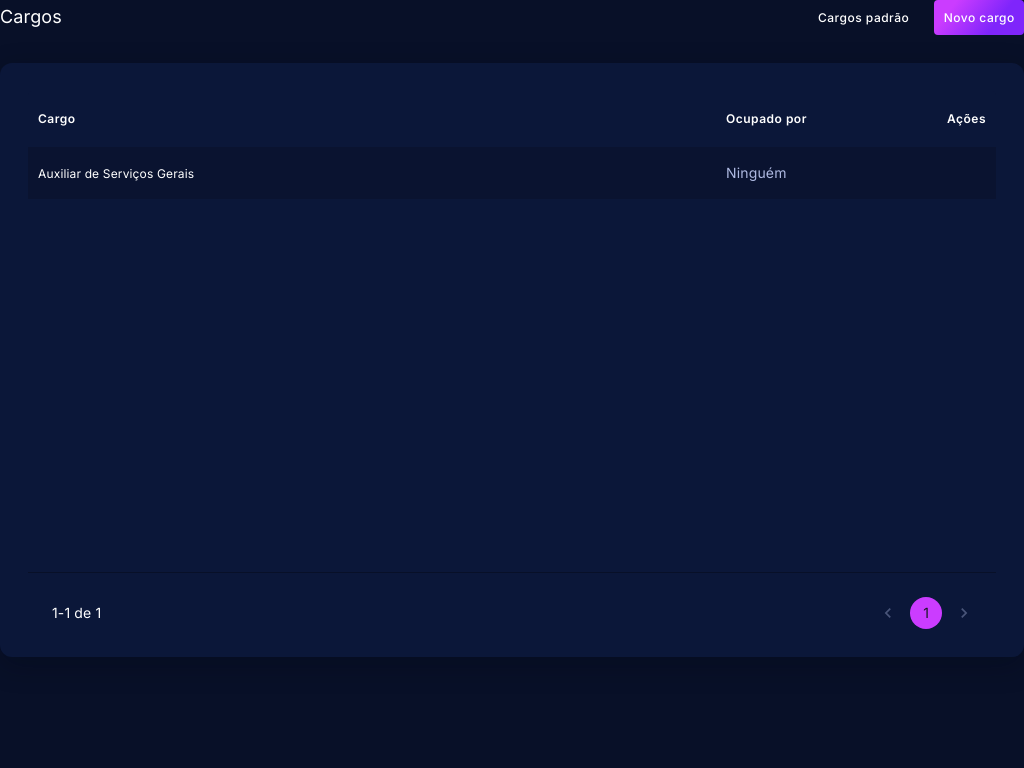
Test: JobPositions page › shows a duplicate name from the API under the field
Check: the text "Auxiliar de Serviços Gerais" is shown, box [38,166,194,181]
Click the button "Novo cargo".
click(979, 18)  # box [934,0,1023,35]
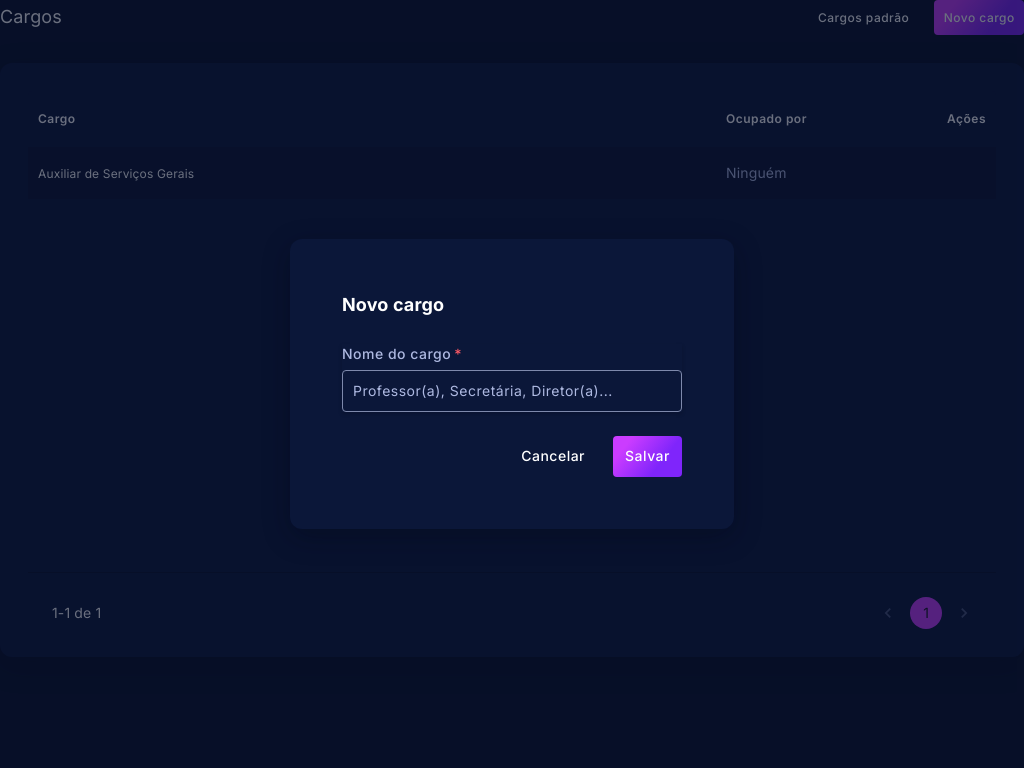
Type "Secretária" into the field labelled "Nome do cargo *".
click(512, 391); type("Secretária")  # box [353,381,671,401]
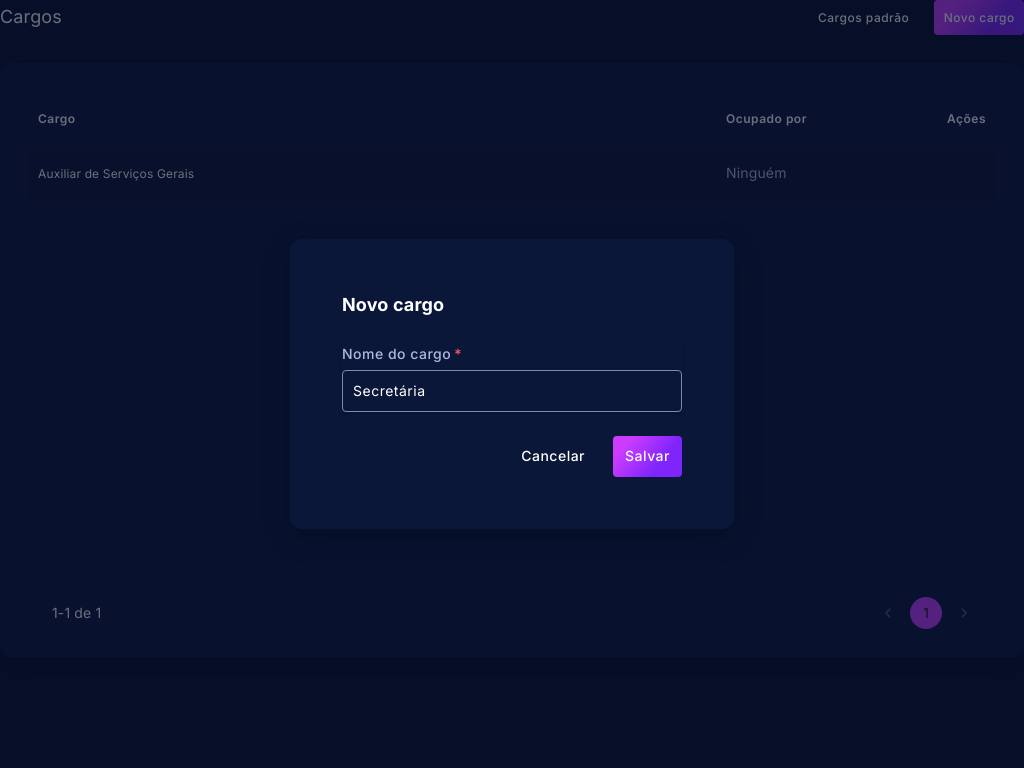
Click the button "Salvar".
click(648, 456)  # box [613,436,682,476]
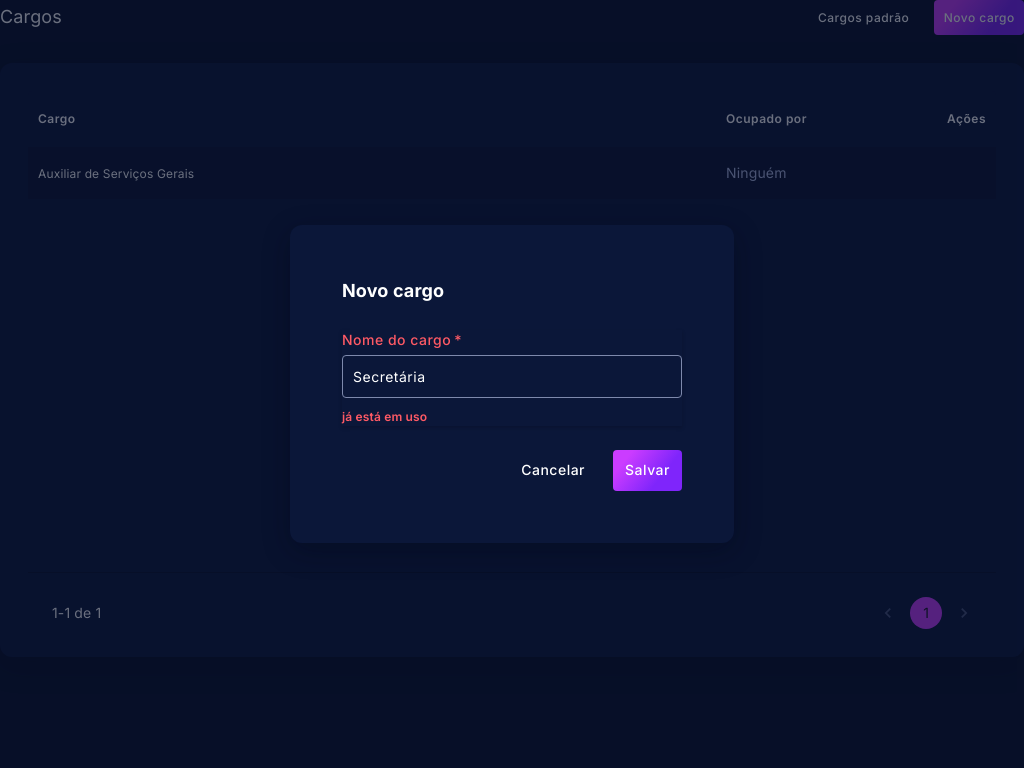
Check: the text "já está em uso" is shown, box [342,408,427,424]
